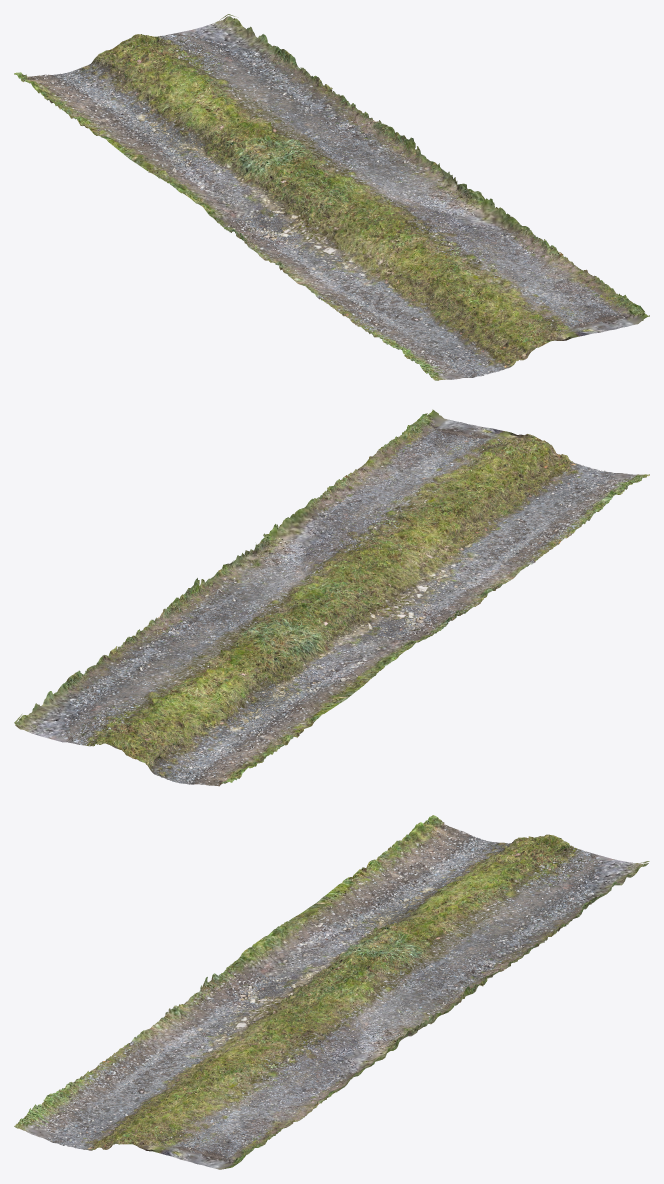
File: gravel_road_lod.fa54521c0d96.glb
The picture shows the model from 3 angles, top to bottom: view 1: azimuth 30°, elevation 25°; view 2: azimuth 150°, elevation 25°; view 3: azimuth 330°, elevation 25°; orthographic projection.
Visible parts, largest first — view 1: Object_2, Object_3; view 2: Object_2, Object_3; view 3: Object_2, Object_3.
Boxes of the visible parts, x1,y1,x2,y2 form: Object_2: [17, 14, 649, 380]; Object_3: [14, 41, 565, 370]; Object_2: [14, 409, 649, 786]; Object_3: [78, 452, 622, 784]; Object_2: [14, 816, 649, 1169]; Object_3: [42, 815, 585, 1135].
Size of the model in its own units: 1.67 by 0.2159 by 5.54.
Materials: 1 (1 with a texture image).
